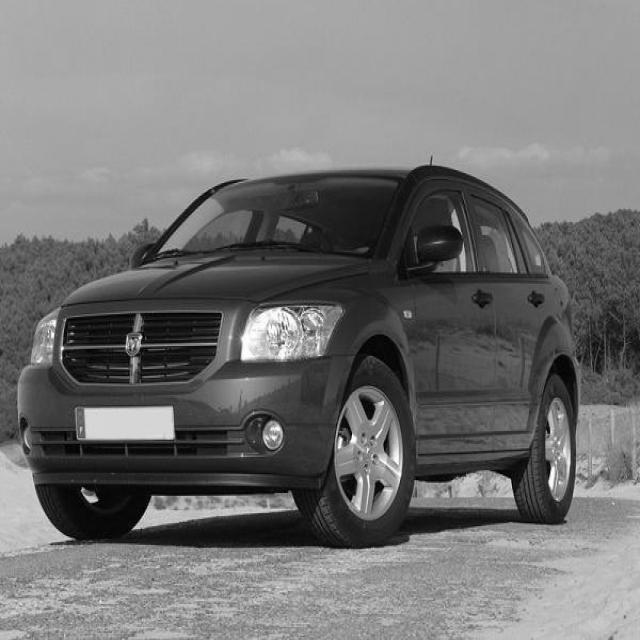car: (16, 158, 582, 548)
